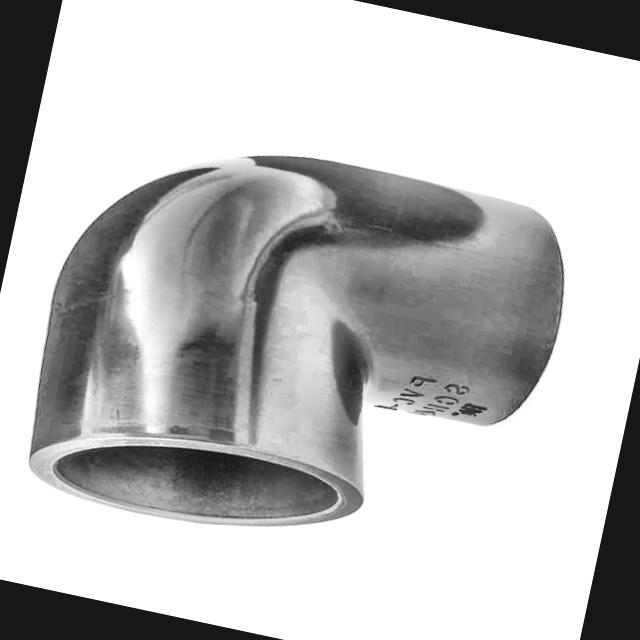ELBOW90: (26, 152, 567, 530)
